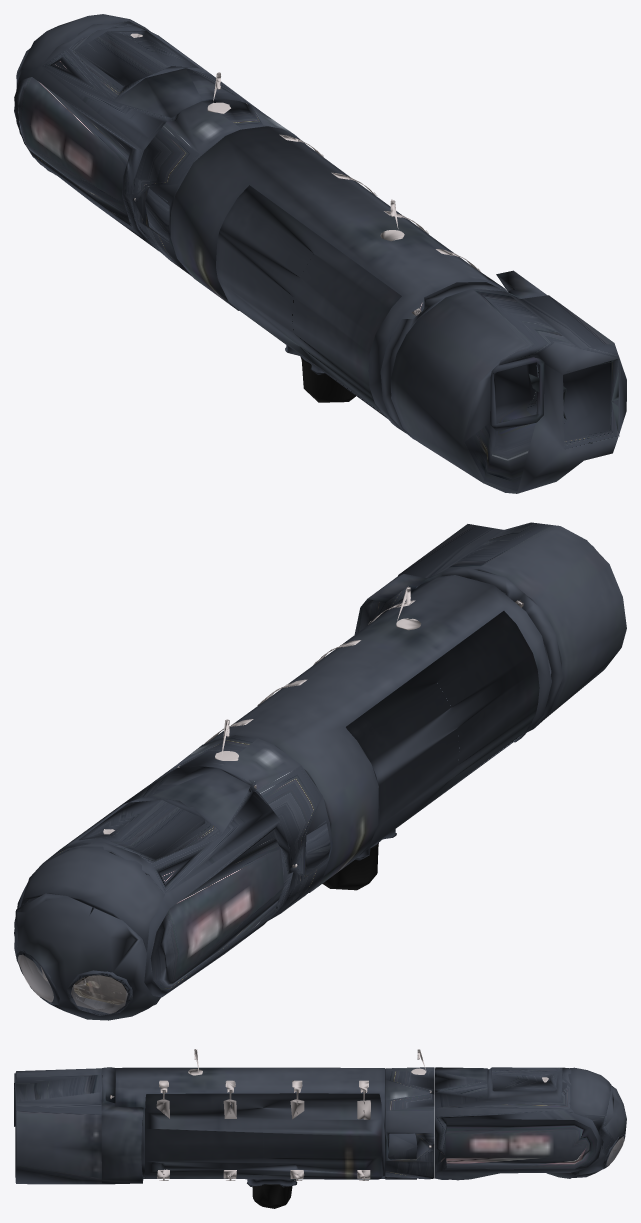
File: w_pod.glb
The picture shows the model from 3 angles, top to bottom: view 1: azimuth 30°, elevation 25°; view 2: azimuth 150°, elevation 25°; view 3: azimuth 270°, elevation 25°; orthographic projection. The views are drawn at different scales.
Parts seen in each view (by area): view 1: body|Body, body|Metal, body|Rubber.001; view 2: body|Body, body|glass, body|Metal, body|Rubber.001, body|Lens_head; view 3: body|Body, body|Metal, body|Rubber.001.
Part boxes in pixels (<box>): body|Body: <box>14,14,626,493</box>; body|Metal: <box>130,33,480,315</box>; body|Rubber.001: <box>300,357,355,402</box>; body|Body: <box>14,522,626,1020</box>; body|glass: <box>18,954,127,1013</box>; body|Metal: <box>103,586,523,867</box>; body|Rubber.001: <box>322,843,378,890</box>; body|Lens_head: <box>73,975,126,1004</box>; body|Body: <box>14,1067,626,1187</box>; body|Metal: <box>110,1049,548,1180</box>; body|Rubber.001: <box>252,1184,292,1208</box>.
Bounding box in the file's own units: 0.4703 × 0.6196 × 2.24.
Materials: 7 (2 with a texture image).
